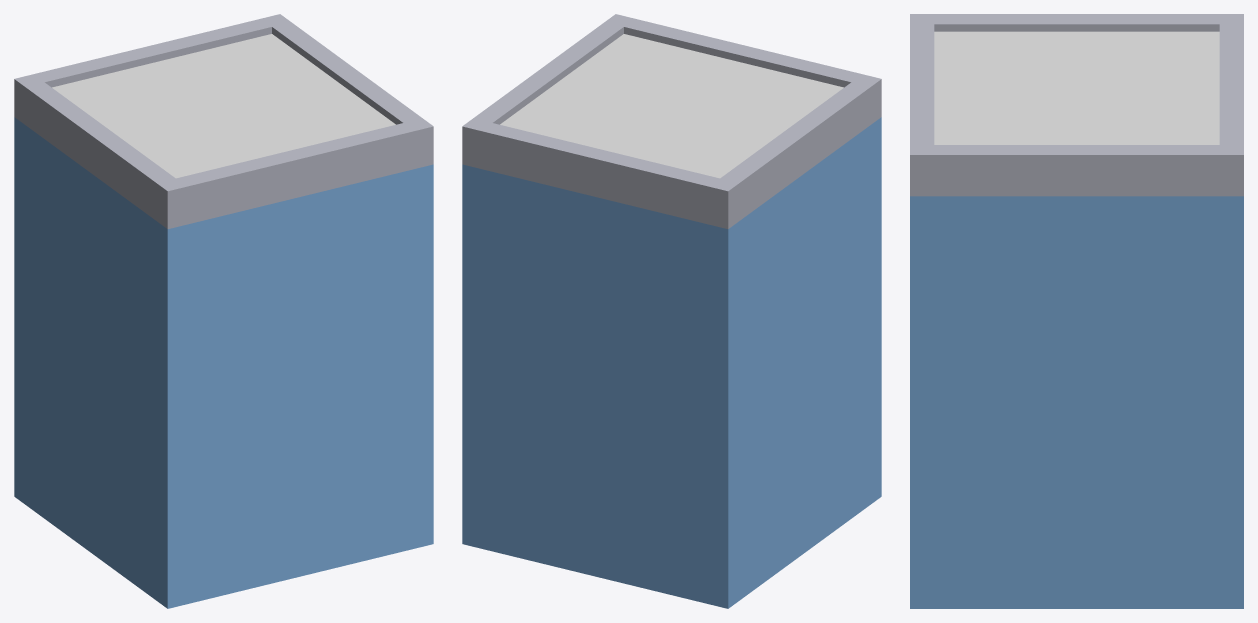
File: SM_Building_20x30.fbx
3 renders of one model, left to right at view 1: azimuth 30°, elevation 25°; view 2: azimuth 150°, elevation 25°; view 3: azimuth 270°, elevation 25°, orthographic. The views are drawn at different scales.
Visible parts, largest first — view 1: Building_20x30; view 2: Building_20x30; view 3: Building_20x30.
Boxes of the visible parts, left/top/right/bottom form: Building_20x30: left=14, top=14, right=433, bottom=608; Building_20x30: left=462, top=14, right=881, bottom=608; Building_20x30: left=910, top=14, right=1243, bottom=608.
Size of the model in its own units: 2000 by 3000 by 2000.
